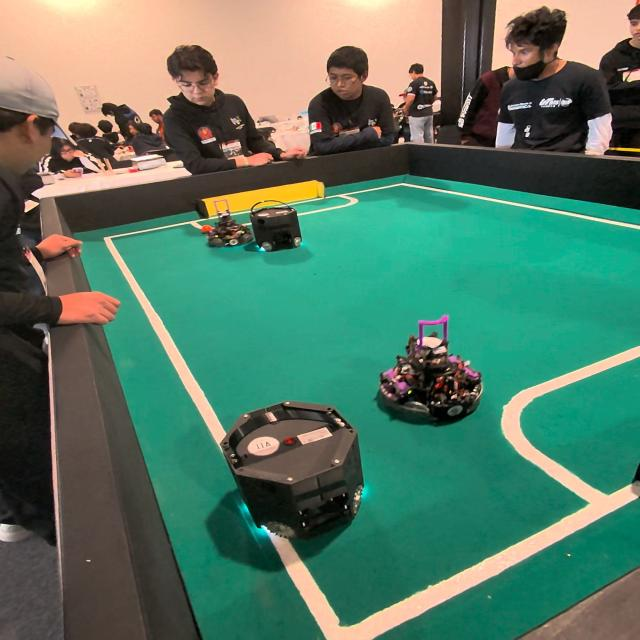Robot: (218, 390, 369, 560), (378, 329, 484, 430), (248, 188, 308, 266), (205, 200, 244, 251)
